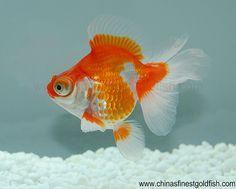goldfish: (46, 36, 200, 144)
